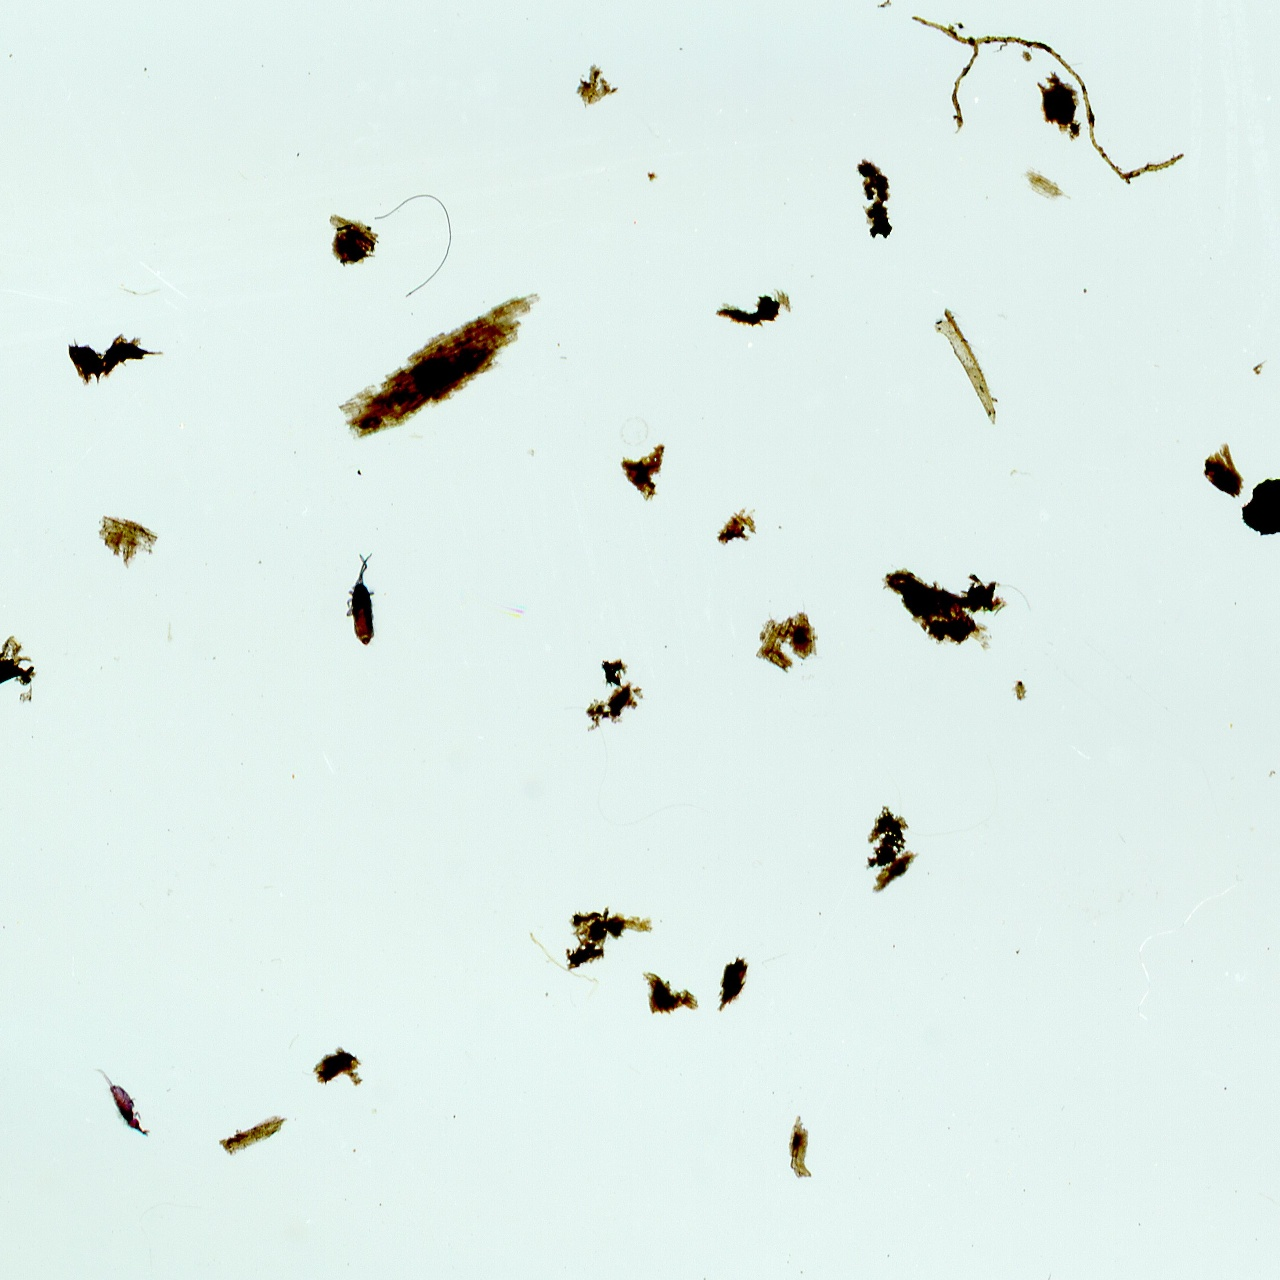arthropod: (88, 1050, 161, 1151), (343, 550, 380, 654)
